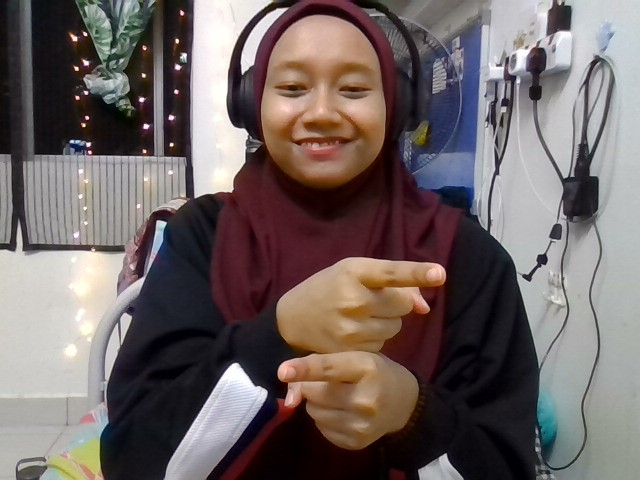Betul: (276, 256, 449, 452)
